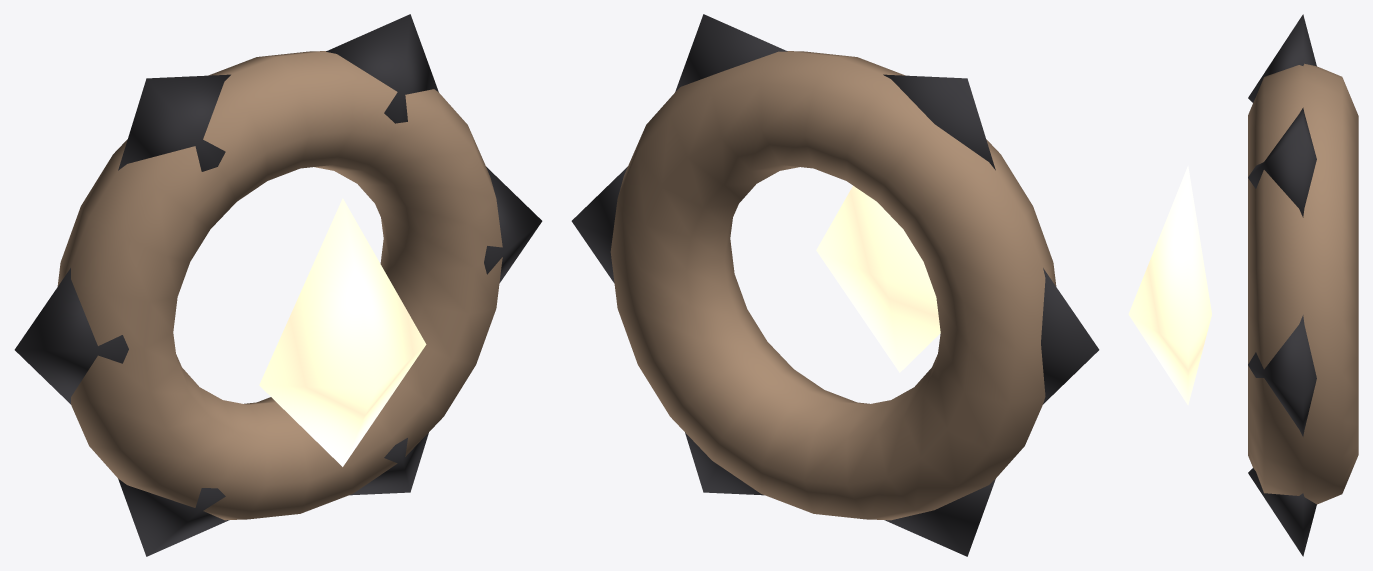
Rendered from boss_ashfall_pilgrim_accessory_1.glb.
3 views of the same model, side by side, from view 1: azimuth 30°, elevation 25°; view 2: azimuth 150°, elevation 25°; view 3: azimuth 270°, elevation 25° (orthographic). The views are drawn at different scales.
Visible parts, largest first — view 1: Boss_ashfall_pilgrim_1, Boss_ashfall_pilgrim_0, Boss_ashfall_pilgrim_2; view 2: Boss_ashfall_pilgrim_1, Boss_ashfall_pilgrim_0, Boss_ashfall_pilgrim_2; view 3: Boss_ashfall_pilgrim_1, Boss_ashfall_pilgrim_0, Boss_ashfall_pilgrim_2.
Boxes of the visible parts, x1=… form: Boss_ashfall_pilgrim_1: x1=57, y1=51, x2=502, y2=520; Boss_ashfall_pilgrim_0: x1=14, y1=14, x2=542, y2=556; Boss_ashfall_pilgrim_2: x1=259, y1=198, x2=426, y2=466; Boss_ashfall_pilgrim_1: x1=610, y1=51, x2=1056, y2=520; Boss_ashfall_pilgrim_0: x1=571, y1=14, x2=1099, y2=556; Boss_ashfall_pilgrim_2: x1=816, y1=185, x2=940, y2=372; Boss_ashfall_pilgrim_1: x1=1248, y1=63, x2=1358, y2=504; Boss_ashfall_pilgrim_0: x1=1248, y1=14, x2=1316, y2=556; Boss_ashfall_pilgrim_2: x1=1128, y1=165, x2=1211, y2=405.
Size of the model in its own units: 0.128 by 0.1109 by 0.054.
